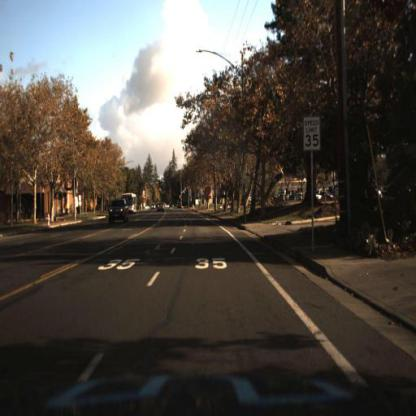car: (108, 197, 129, 226), (158, 199, 168, 213), (178, 203, 183, 209), (152, 205, 157, 210), (172, 205, 175, 209), (165, 205, 168, 209)
pedestrian: (66, 204, 70, 218)
truck: (121, 192, 138, 214)
